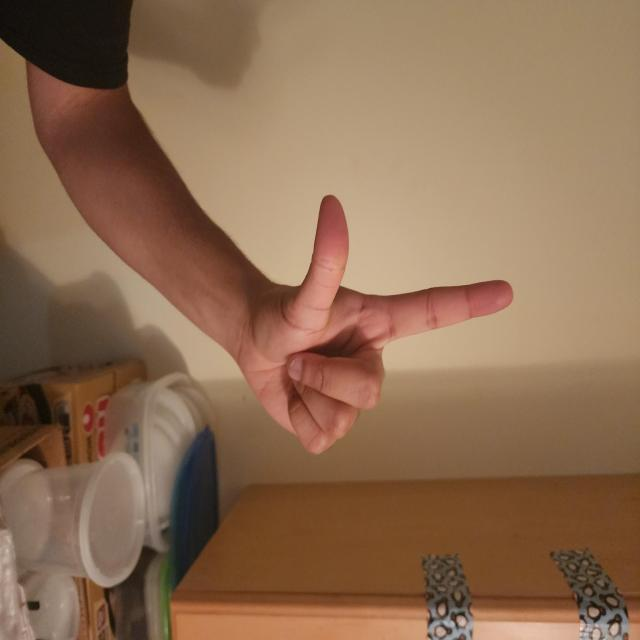L: (302, 167, 504, 544)
